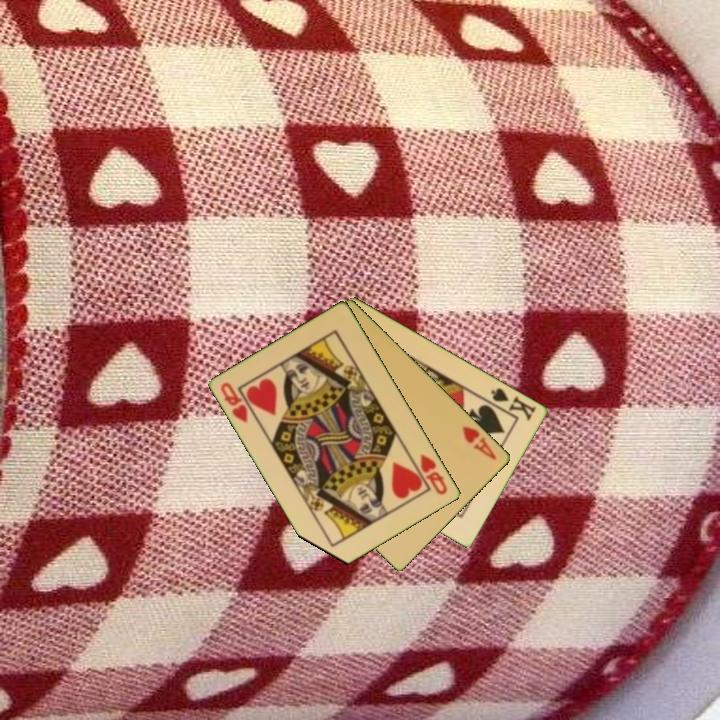Ah: (459, 422, 500, 463)
Ks: (484, 384, 540, 423)
Qh: (417, 450, 451, 498), (217, 379, 251, 426)
